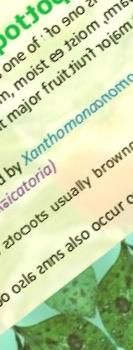Tomato leaf bacterial spot: (71, 207, 133, 350)
